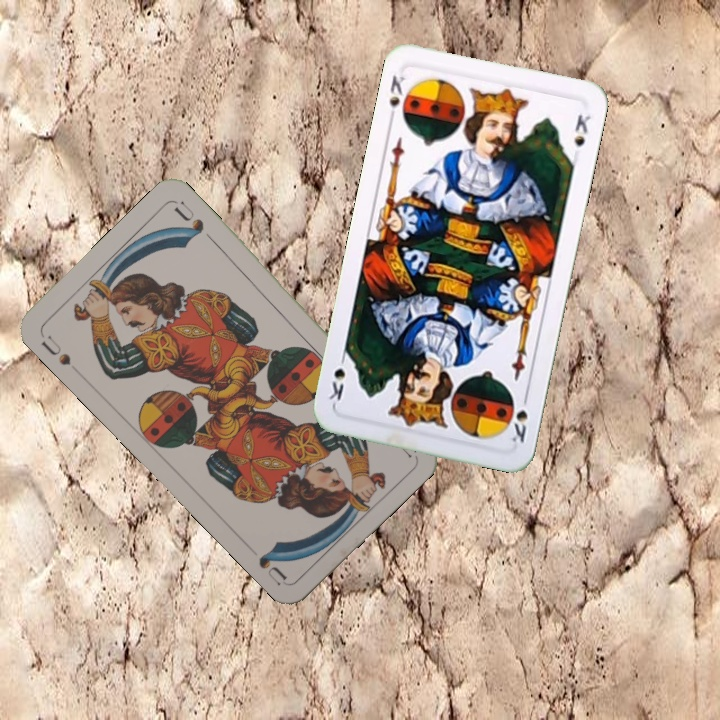SK: (507, 389, 531, 445), (385, 71, 407, 125)
SU: (37, 330, 74, 369)
